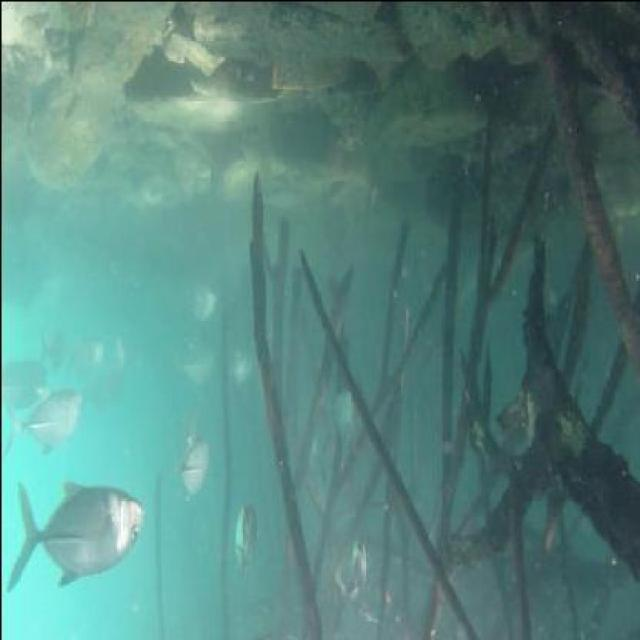Caranx_sexfasciatus_juvenile: (6, 477, 148, 594), (2, 379, 80, 468), (328, 521, 372, 625), (231, 484, 263, 584), (30, 316, 70, 390), (172, 429, 213, 500), (225, 318, 260, 396), (68, 323, 109, 386), (326, 370, 363, 439), (181, 323, 219, 388), (1, 357, 48, 409), (182, 276, 220, 335), (84, 358, 124, 412), (300, 418, 325, 487)
